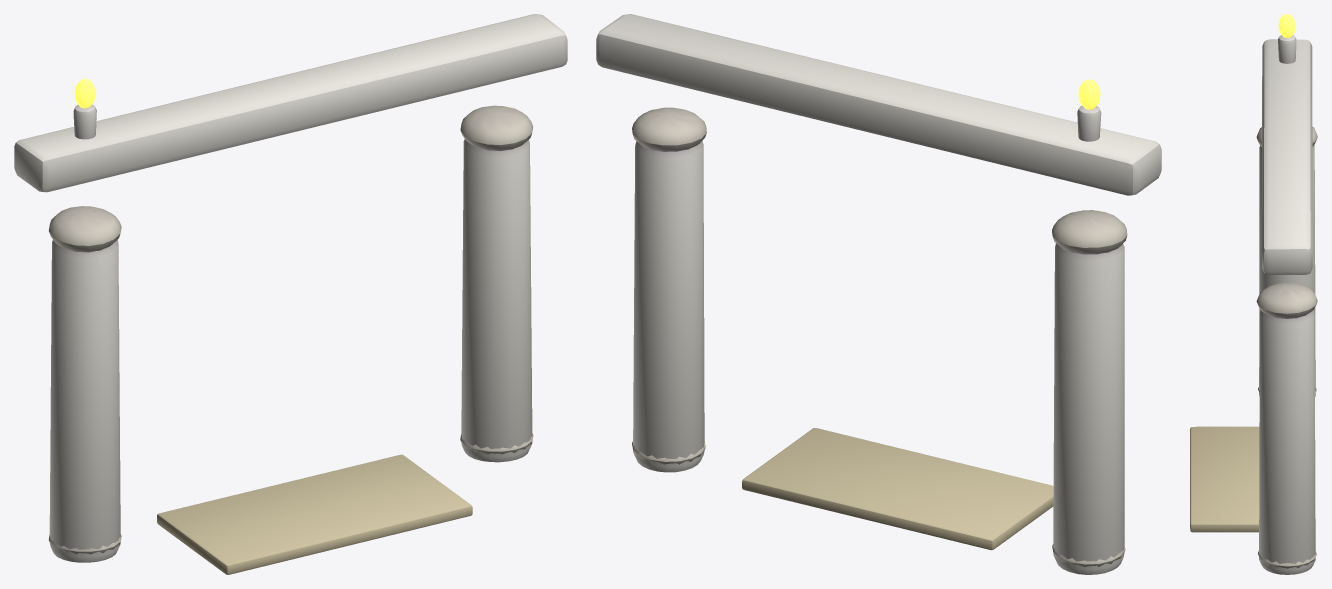
3 views of the same model, side by side, from view 1: azimuth 30°, elevation 25°; view 2: azimuth 150°, elevation 25°; view 3: azimuth 270°, elevation 25° (orthographic). The views are drawn at different scales.
Visible parts, largest first — view 1: gate_c26d4dd2; view 2: gate_c26d4dd2; view 3: gate_c26d4dd2.
Boxes of the visible parts, x1,y1,x2,y2 form: gate_c26d4dd2: (14,14,567,574); gate_c26d4dd2: (596,14,1161,574); gate_c26d4dd2: (1190,14,1317,574).
Size of the model in its own units: 5.16 by 4.41 by 1.32.
